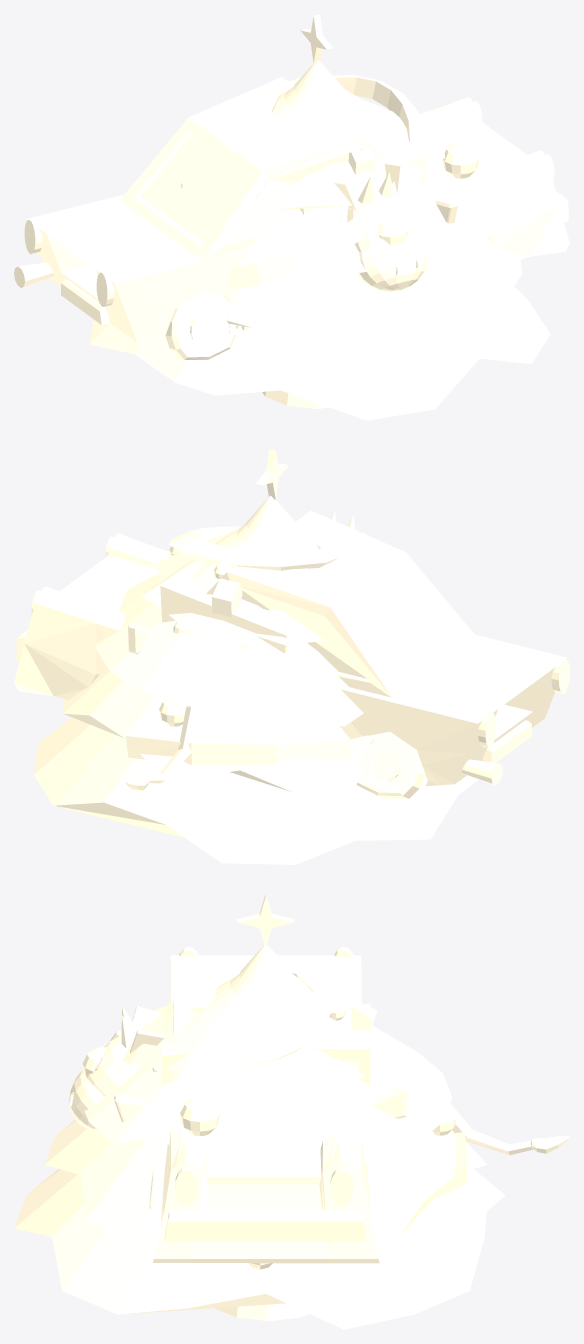
Rendered from floating_obstacles(2).glb.
The picture shows the model from 3 angles, top to bottom: view 1: azimuth 30°, elevation 25°; view 2: azimuth 150°, elevation 25°; view 3: azimuth 270°, elevation 25°; orthographic projection. The views are drawn at different scales.
Visible parts, largest first — view 1: christmastree, car, cow, locker, window; view 2: christmastree, car, locker, cow, window; view 3: christmastree, car, cow, locker, window.
Part boxes in pixels (x1,y1,x2,y2): christmastree: (89,14,550,420); car: (14,77,569,359); cow: (334,164,427,291); locker: (300,137,426,215); window: (348,147,374,174); christmastree: (34,449,478,864); car: (14,510,569,798); locker: (160,566,290,653); cow: (126,510,365,791); window: (211,578,242,616); christmastree: (14,893,505,1329); car: (114,946,407,1263); cow: (69,1006,569,1155); locker: (161,1004,370,1085); window: (163,997,371,1033).
Size of the model in its own units: 4.77 by 3.63 by 4.58.
